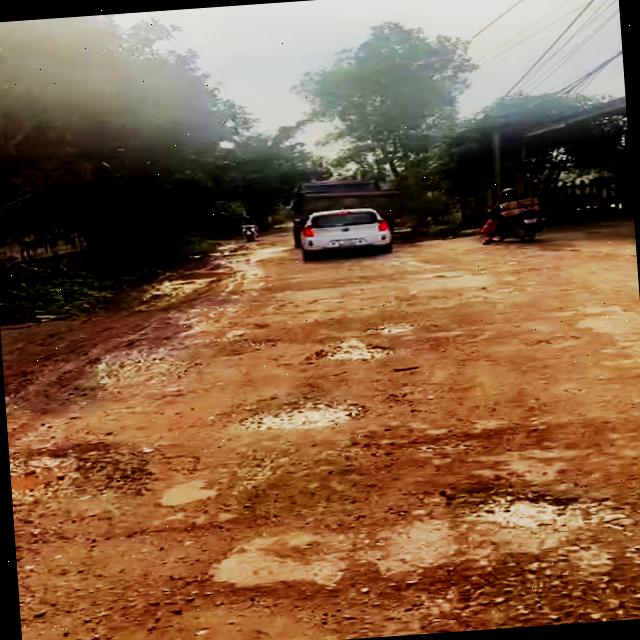pothole: (8, 430, 167, 506), (467, 478, 618, 542), (232, 395, 371, 436), (308, 338, 394, 368), (364, 319, 423, 338)
